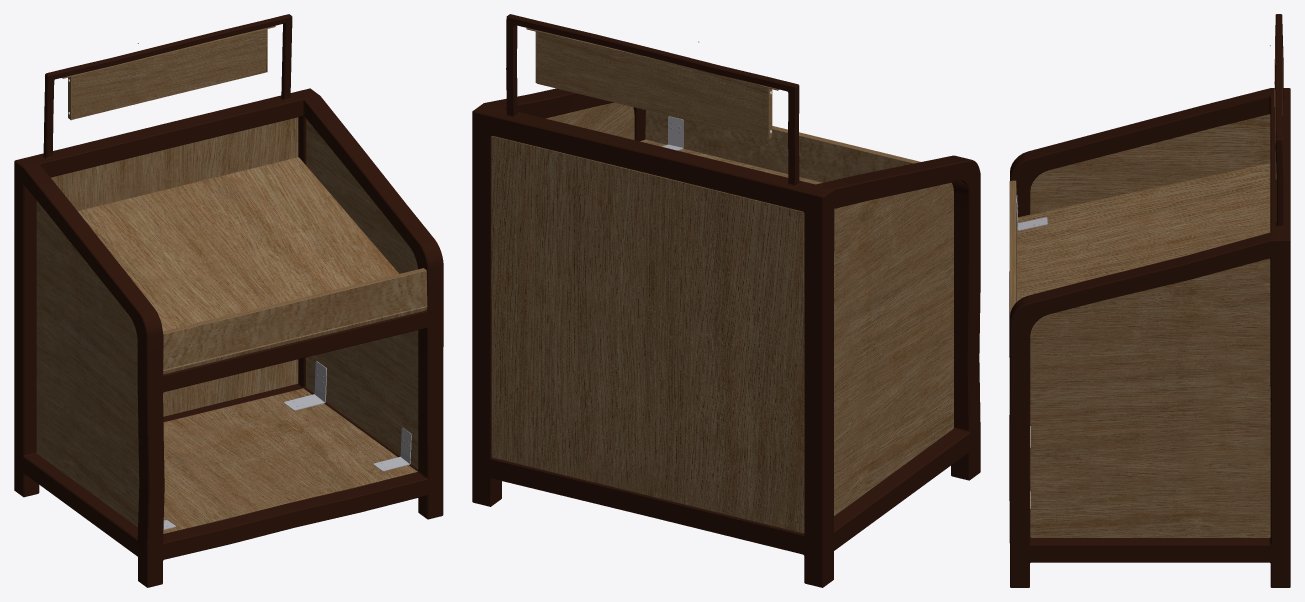
Rendered from schelfMiddleMetal 1.fbx.
The picture shows the model from 3 angles, left to right: view 1: azimuth 30°, elevation 25°; view 2: azimuth 150°, elevation 25°; view 3: azimuth 270°, elevation 25°; orthographic projection. The views are drawn at different scales.
Parts seen in each view (by area): view 1: Structure, SideWood, MainWood, BottomWood, BackWood, Structure.003, Structure.001, Clamp.002, Clamp.001; view 2: BackWood, Structure, SideWood, Structure.001, Structure.003; view 3: SideWood, Structure, MainWood, Structure.003.
Part boxes in pixels (<box>): Structure: <box>14,14,443,587</box>; SideWood: <box>36,119,418,526</box>; MainWood: <box>77,157,427,374</box>; BottomWood: <box>163,388,417,533</box>; BackWood: <box>51,117,298,416</box>; Structure.003: <box>163,268,427,369</box>; Structure.001: <box>71,28,266,119</box>; Clamp.002: <box>284,361,326,410</box>; Clamp.001: <box>373,427,411,471</box>; BackWood: <box>491,136,804,533</box>; Structure: <box>472,14,980,587</box>; SideWood: <box>545,102,953,515</box>; Structure.001: <box>536,30,767,139</box>; Structure.003: <box>645,110,920,182</box>; SideWood: <box>1030,114,1270,537</box>; Structure: <box>1009,14,1290,587</box>; MainWood: <box>1009,163,1270,355</box>; Structure.003: <box>1009,180,1017,332</box>.
Bounding box in the file's own units: 90.33 × 124 × 70.16.
